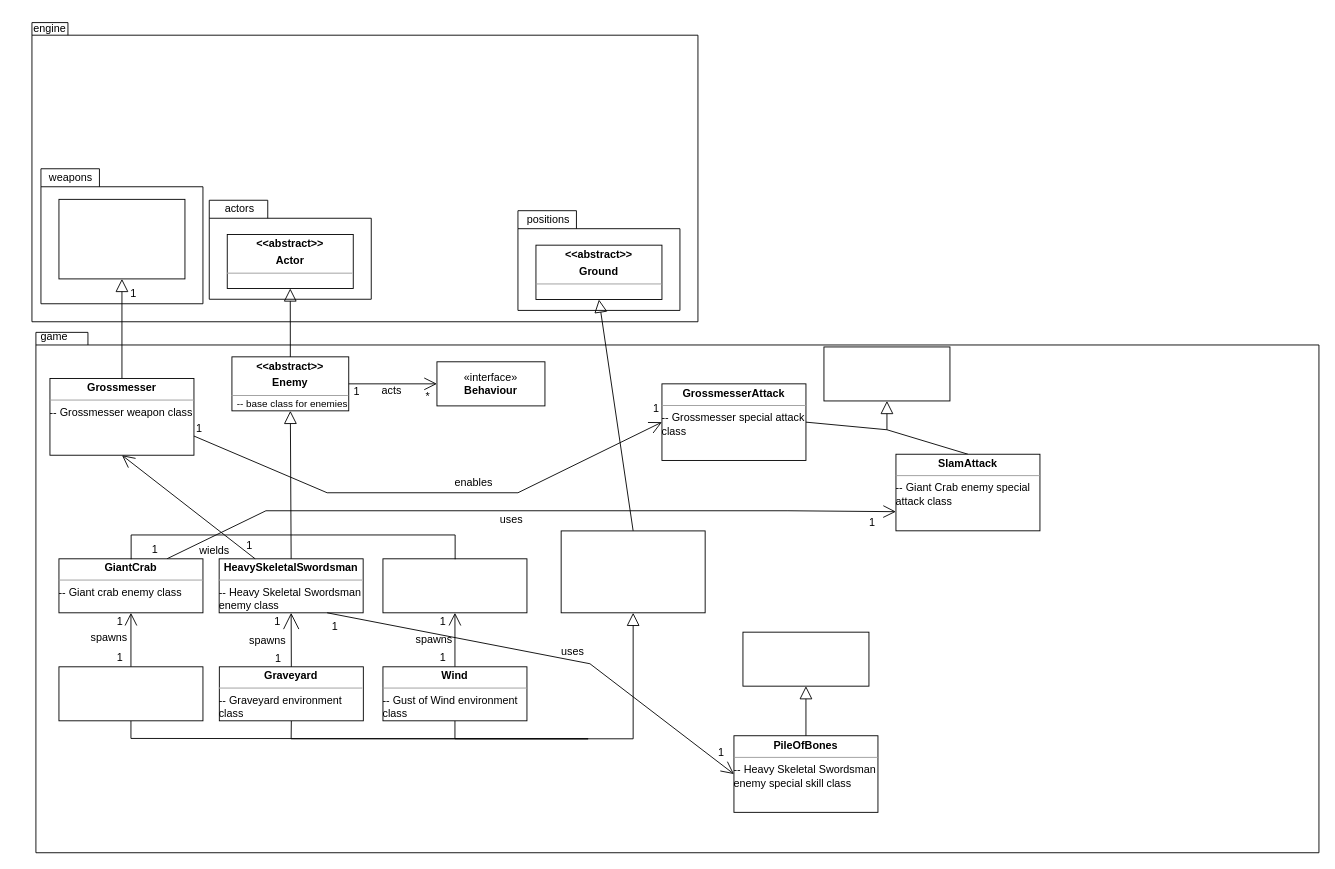
Image size: 1335x869. Some labels were removed from this diagram. Here are the shapes that lost their labels. From the top down, the centre of each, then its label:
[121,238]: <<abstract>> WeaponItem
[886,373]: AttackAction
[454,585]: LoneWolf -- Lone Wolf enemy class
[632,571]: <<abstract>> GroundSpawner -- base class for grounds which spawn enemies
[805,658]: <<abstract>> Action
[130,693]: Water -- Puddle of Water class
